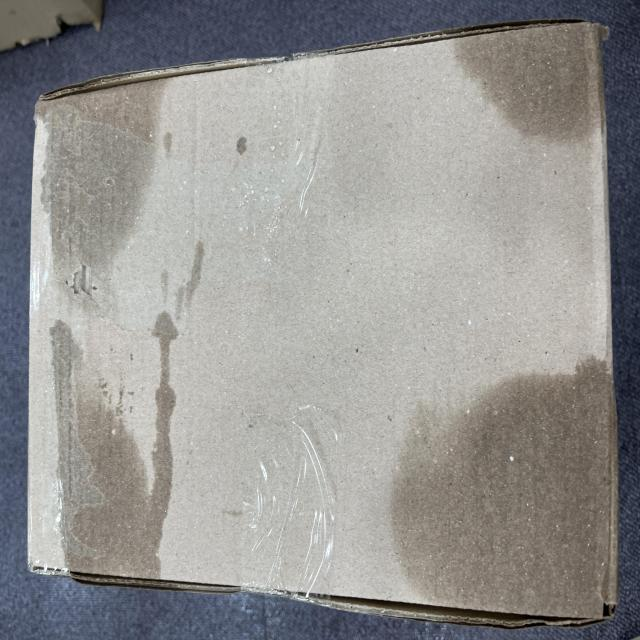wet: (18, 33, 451, 640)
